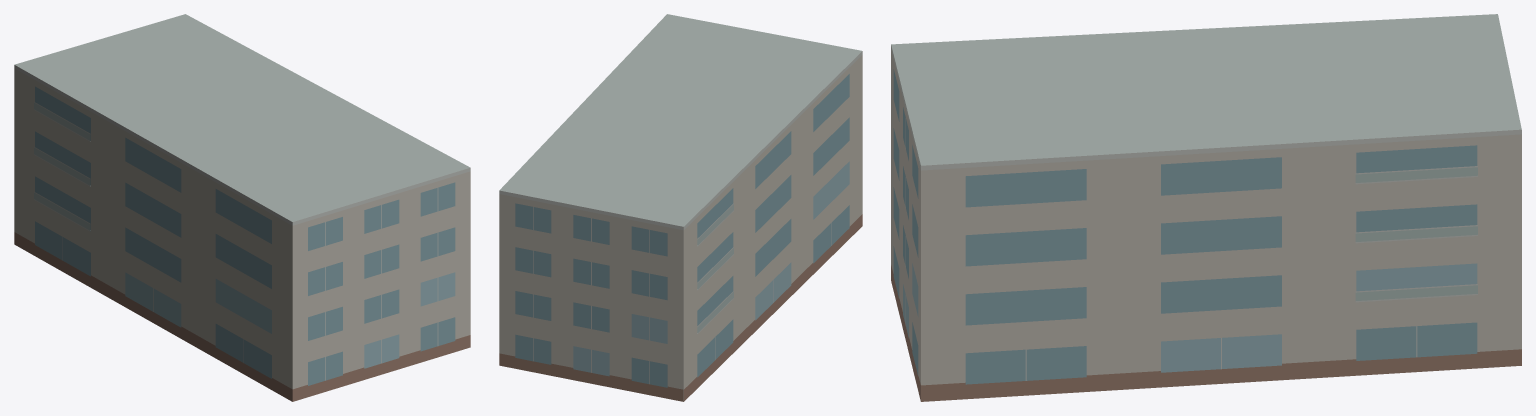
Rendered from survey-upis-32638697.glb.
The picture shows the model from 3 angles, left to right: view 1: azimuth 30°, elevation 25°; view 2: azimuth 150°, elevation 25°; view 3: azimuth 270°, elevation 25°; orthographic projection. The views are drawn at different scales.
Visible parts, largest first — view 1: survey-upis-32638697.tmp; view 2: survey-upis-32638697.tmp; view 3: survey-upis-32638697.tmp.
Part boxes in pixels (x1,y1,x2,y2): survey-upis-32638697.tmp: [14, 14, 470, 401]; survey-upis-32638697.tmp: [499, 14, 862, 401]; survey-upis-32638697.tmp: [891, 14, 1521, 401].
Bounding box in the file's own units: 16.69 × 12.1 × 29.3.
